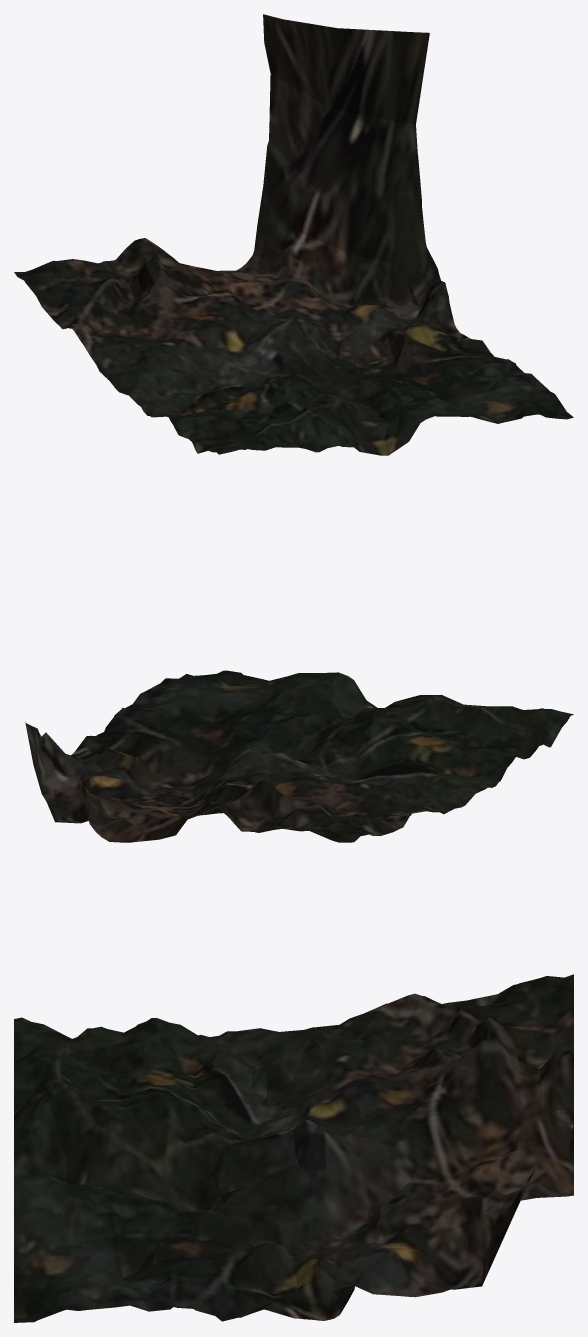
The picture shows the model from 3 angles, top to bottom: view 1: azimuth 30°, elevation 25°; view 2: azimuth 150°, elevation 25°; view 3: azimuth 270°, elevation 25°; orthographic projection. The views are drawn at different scales.
Size of the model in its own units: 0.8373 by 0.6353 by 0.8374.
Materials: 3 (3 with a texture image).
